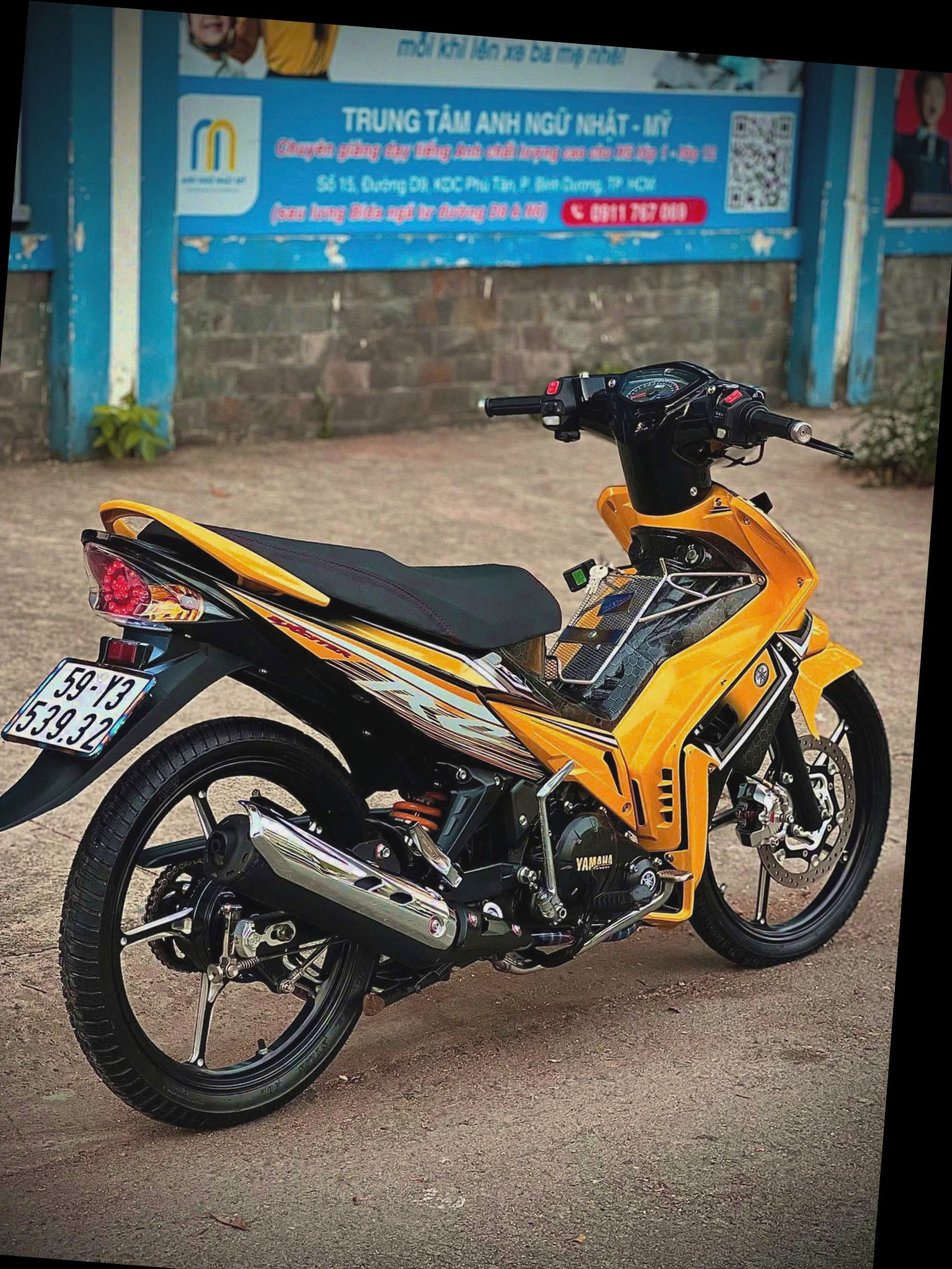Bien-so: (17, 623, 186, 729)
